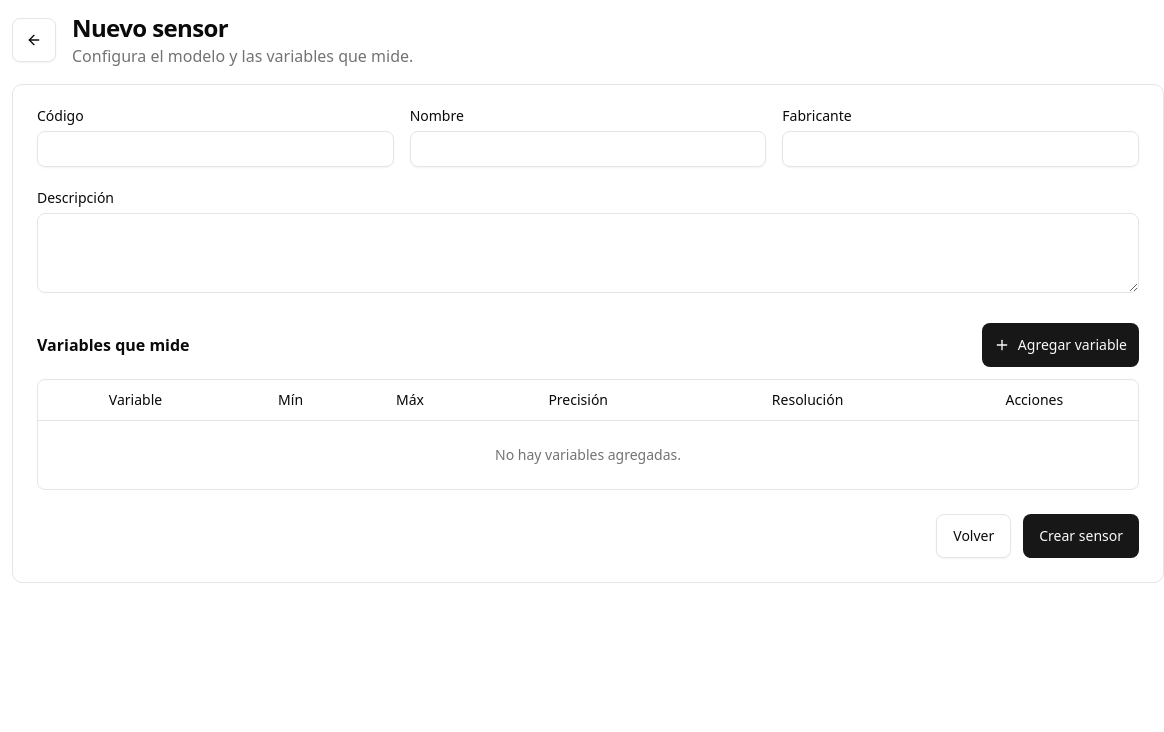
Test: catalog forms › shows an empty measurement table and adds a row with empty numeric inputs
Check: the heading "Nuevo sensor" is shown, box [72,11,228,44]
Check: the text "No hay variables agregadas." is shown, box [38,420,1138,488]
Click the button "Agregar variable": point(1060, 345) [982,323,1139,367]
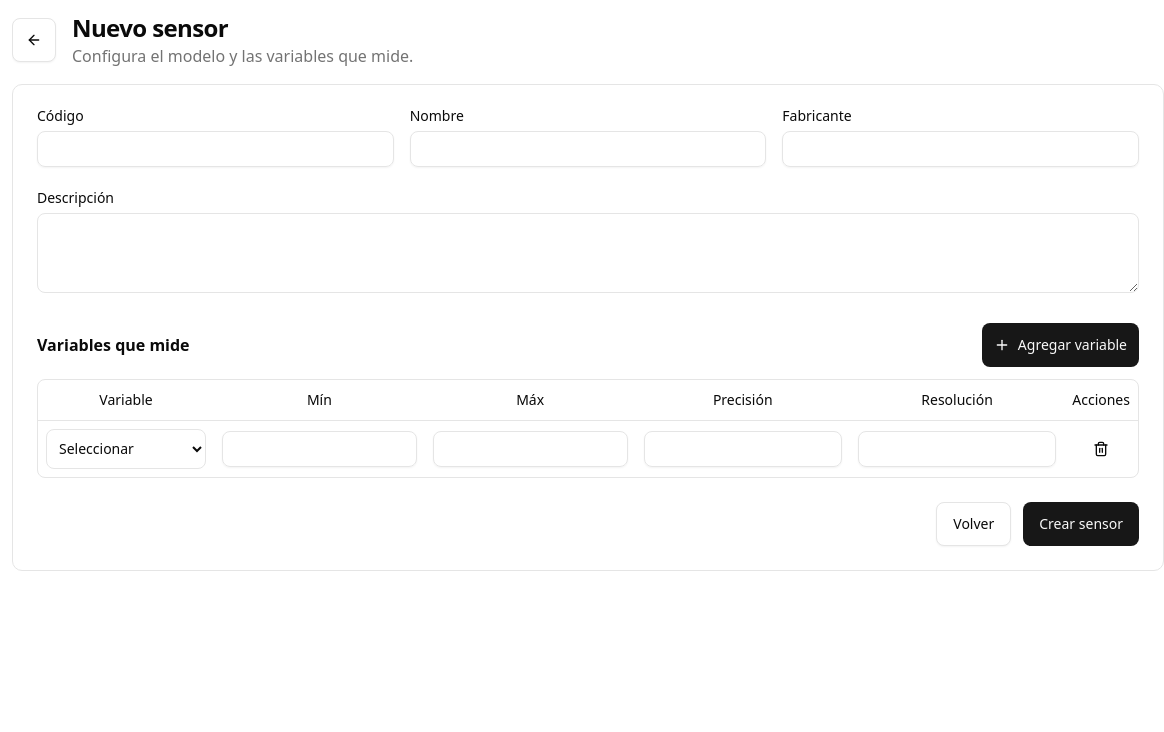
Check: the button named "Quitar variable" is shown, box [1085,432,1117,464]
Check: the number field named "Mín 1" is not empty, box [222,430,417,466]
Check: the number field named "Máx 1" is not empty, box [433,430,628,466]
In the field labelled "Código": point(215, 149) [37,131,394,167], type "sensor_1"
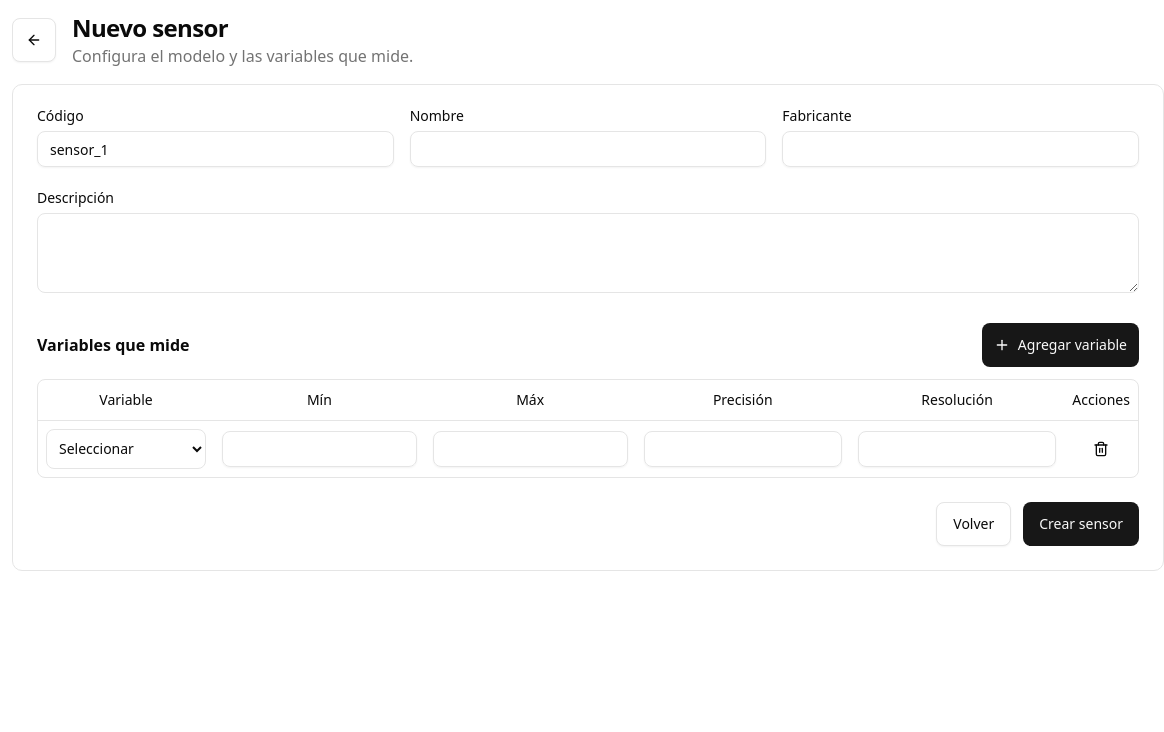
In the field labelled "Nombre": point(588, 149) [410,131,766,167], type "Sensor"
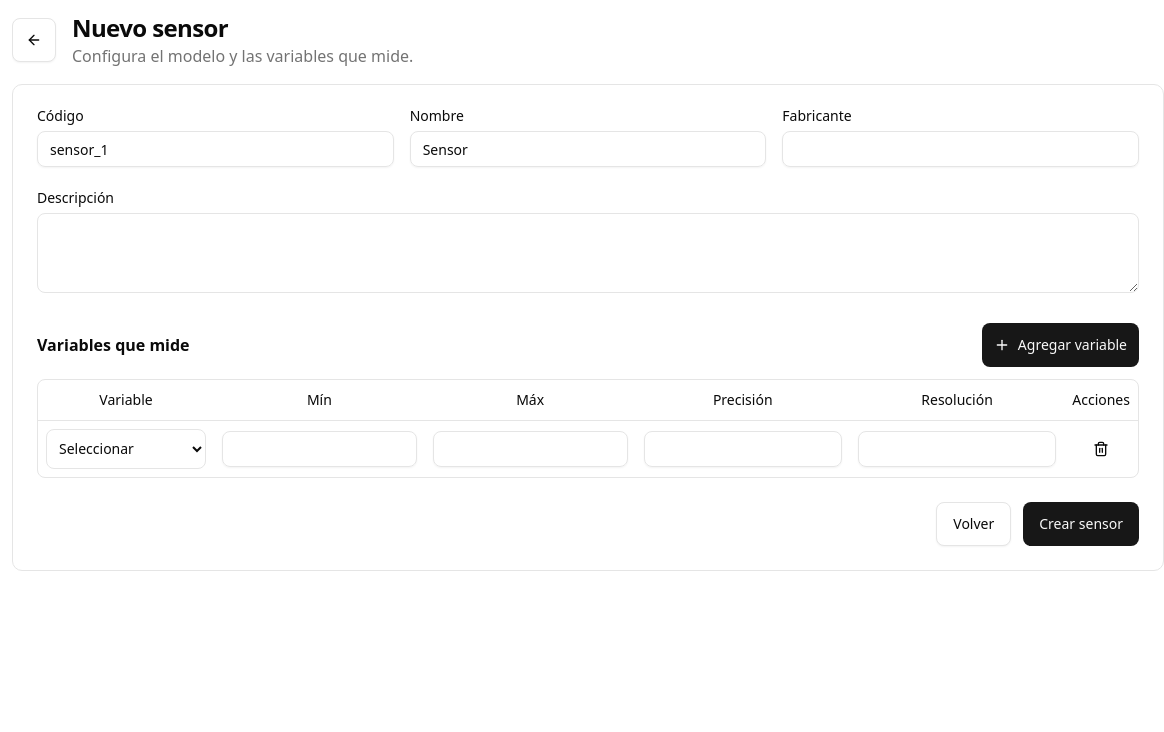
In the field labelled "Fabricante": point(961, 149) [782,131,1139,167], type "Acme"
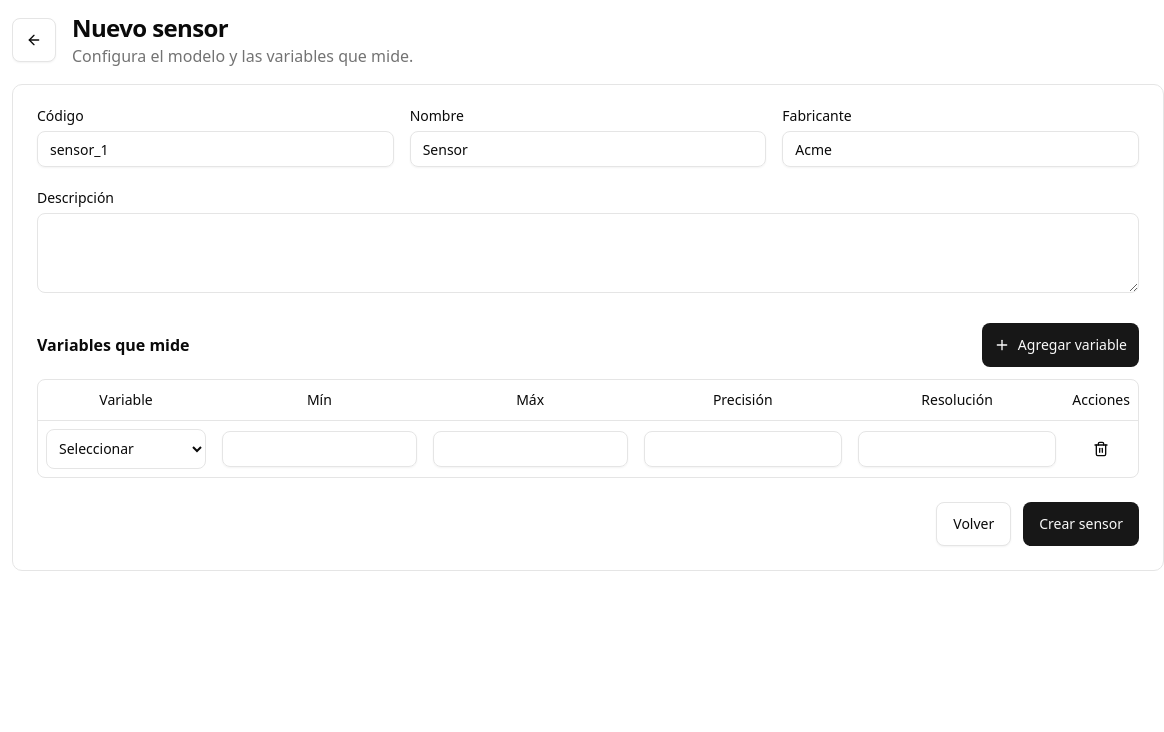
Click the button "Crear sensor": point(1081, 524) [1023,502,1139,546]
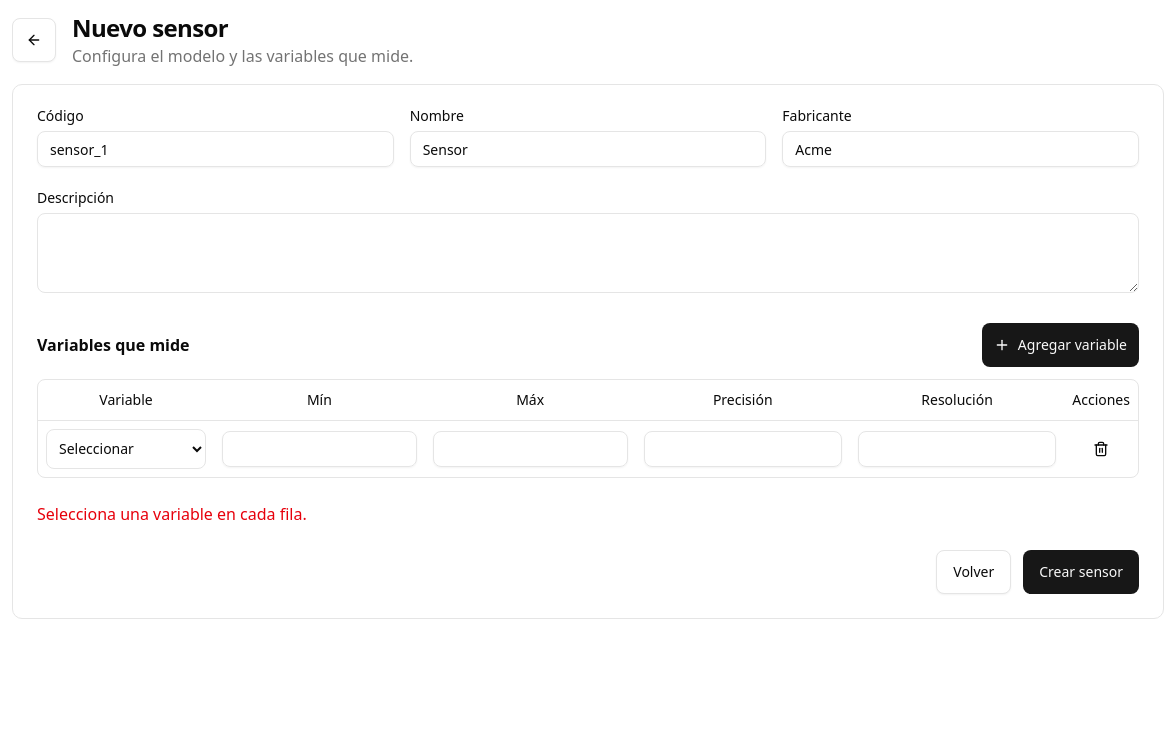
Check: the message reads "Selecciona una variable en cada fila.", box [37,502,307,524]
